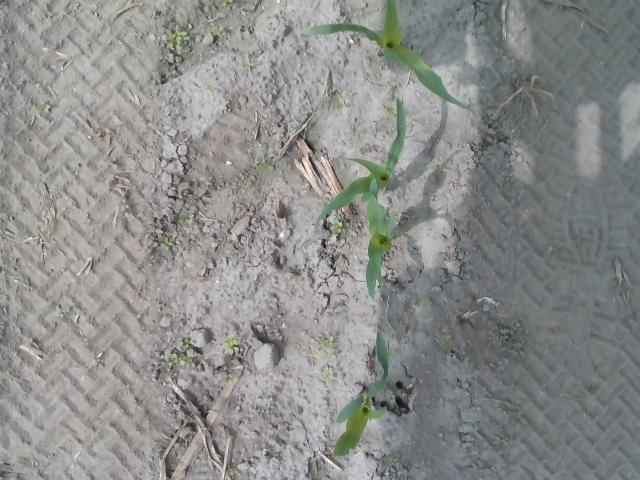Maize: (298, 0, 474, 114), (311, 99, 408, 235), (333, 328, 390, 456), (361, 190, 397, 302)
Weeds: (308, 334, 338, 384), (160, 24, 190, 50), (161, 350, 196, 368), (222, 336, 242, 356), (118, 198, 130, 218), (542, 244, 560, 256), (329, 219, 342, 234), (386, 102, 398, 118), (178, 337, 194, 349), (161, 236, 174, 250), (510, 320, 522, 334), (257, 160, 273, 170), (182, 215, 192, 231), (240, 58, 253, 70), (415, 468, 428, 480), (439, 334, 453, 345), (213, 24, 225, 36), (40, 100, 51, 112), (383, 457, 399, 465), (104, 160, 118, 169), (422, 296, 433, 306), (222, 374, 233, 384), (143, 255, 156, 263), (231, 247, 241, 256), (55, 312, 66, 320), (220, 0, 234, 6), (227, 465, 234, 477), (302, 110, 308, 118)
